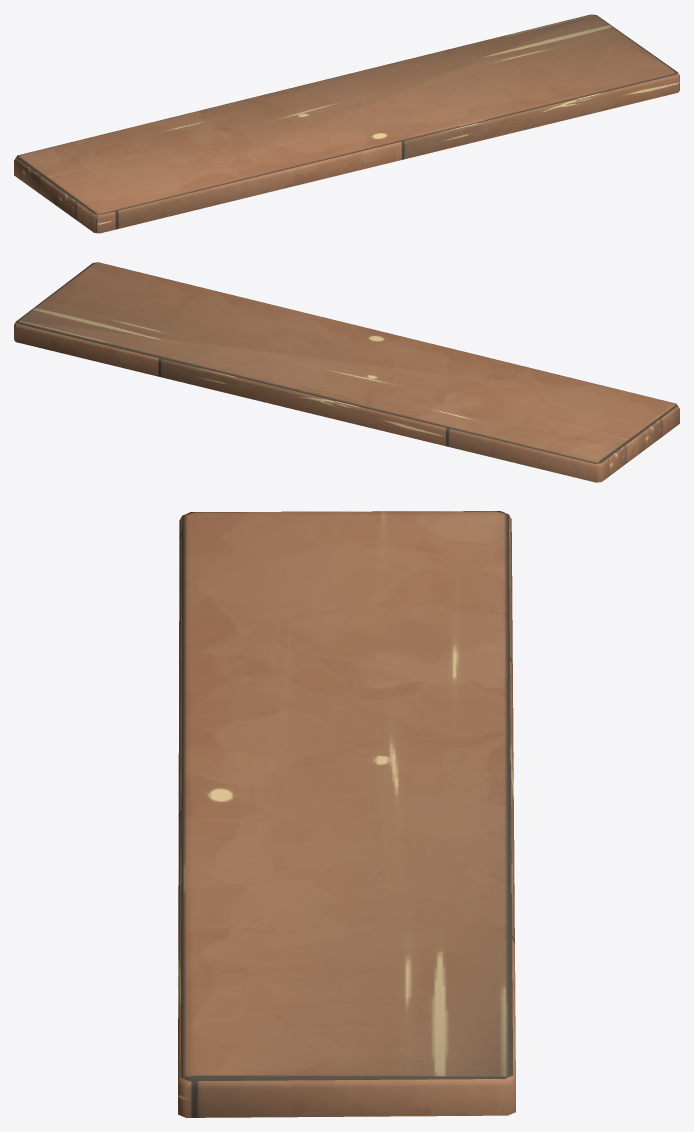
Rendered from m_e1_floorPlank01.001.fbx.
3 views of the same model, one above another, from view 1: azimuth 30°, elevation 25°; view 2: azimuth 150°, elevation 25°; view 3: azimuth 270°, elevation 25° (orthographic). The views are drawn at different scales.
Parts seen in each view (by area): view 1: m_e1_floorPlank01.001; view 2: m_e1_floorPlank01.001; view 3: m_e1_floorPlank01.001.
Part boxes in pixels (x1,y1,x2,y2): m_e1_floorPlank01.001: (14,14,679,233); m_e1_floorPlank01.001: (14,262,679,482); m_e1_floorPlank01.001: (178,511,515,1117).
Bounding box in the file's own units: 100 × 3.12 × 25.06.
